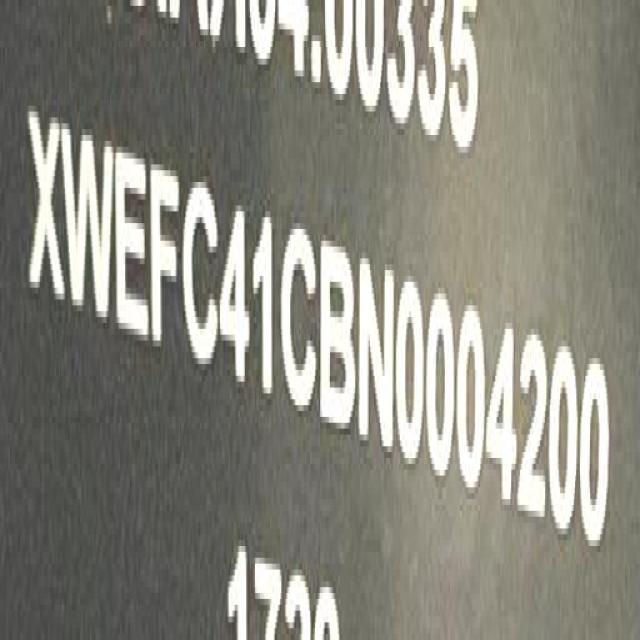0: (425, 263, 456, 496), (396, 256, 426, 482), (578, 357, 611, 548), (548, 337, 578, 544), (458, 289, 486, 505)
1: (253, 200, 278, 409)
2: (518, 316, 547, 542)
4: (486, 324, 521, 515), (219, 192, 252, 394)
B: (319, 237, 356, 435)
C: (178, 159, 219, 372), (282, 215, 318, 418)
E: (113, 128, 147, 348)
F: (147, 150, 180, 354)
N: (358, 252, 394, 452)
W: (60, 100, 115, 341)
X: (29, 96, 65, 306)
